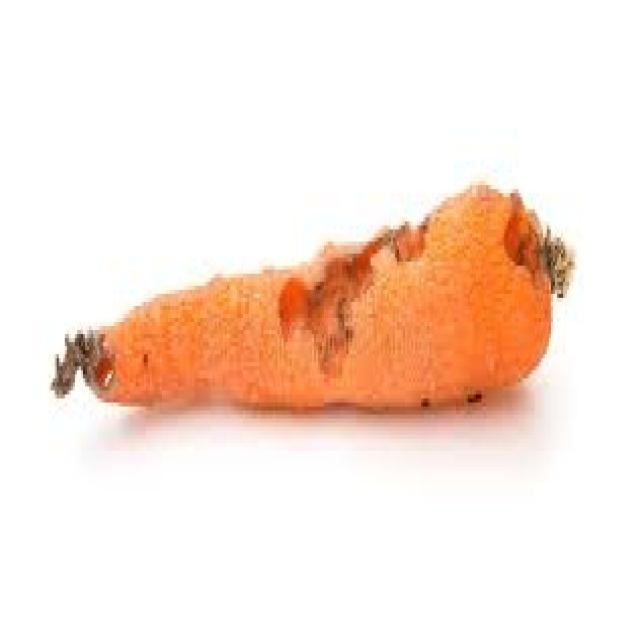Stale_Carrot: (29, 176, 579, 480)
